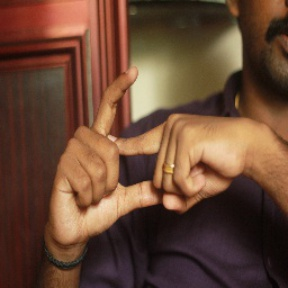E: (82, 61, 197, 227)
